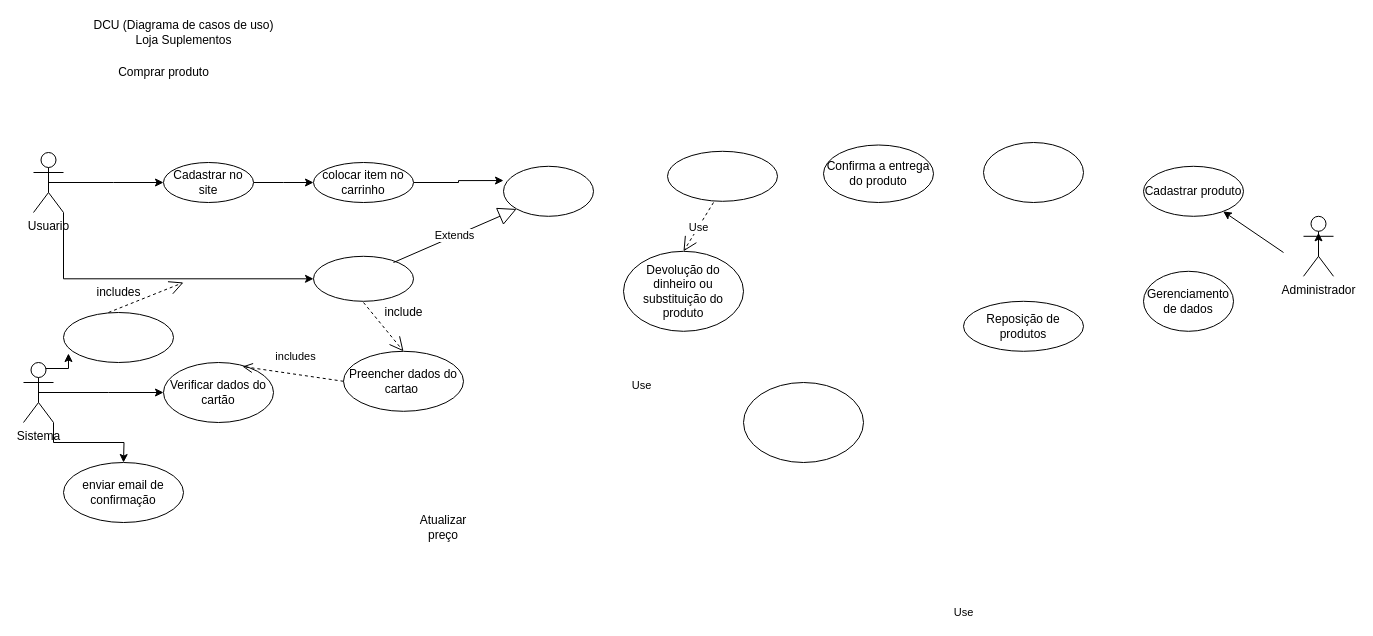
The diagram is 1373 pixels wide and 636 high, and some of its shapes have lost their labels. Each missing label, with the box of its shape:
Analise de vendas avaliações: (666, 150, 778, 201)
Controle dos ganhos: (742, 382, 864, 462)
Faturar compra: (62, 312, 174, 362)
finalizar compra: (312, 255, 414, 301)
informar endereco: (502, 165, 594, 216)
Verificar endereço: (982, 142, 1084, 202)
